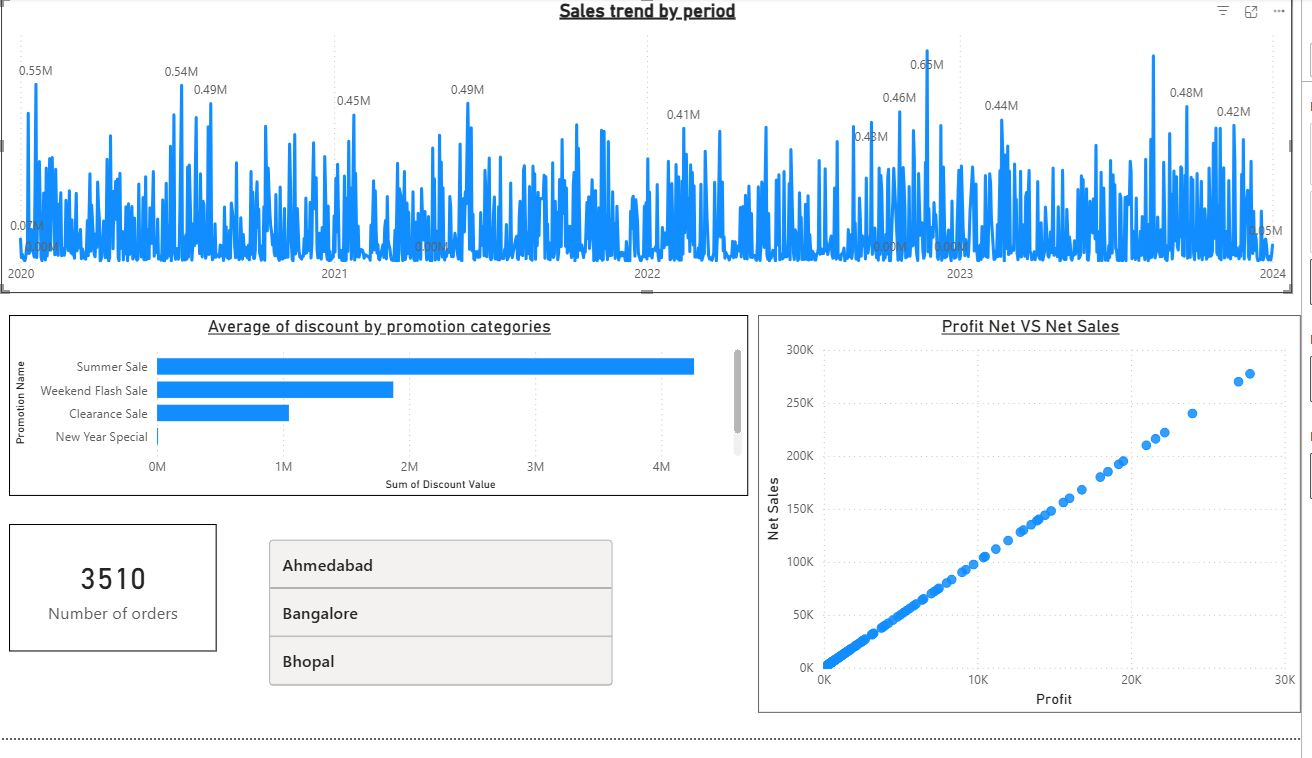

Layout of this report page (visuals, bound fields, positions):
{"tool":"powerbi","page":{"name":"Overview ","canvas":[1280,720],"ordinal":1},"visuals":[{"type":"lineChart","title":"Sales trend by period","fields":{"Y":["Sum(Fact Table.Net Sales  )"],"Category":["Fact Table.Date (dd/mm/yyyy).Variation.Date Hierarchy.Year"]},"box":[15.6,0,1255.7,286.9],"z":0},{"type":"scatterChart","title":"Profit Net  VS Net Sales  ","fields":{"X":["Fact Table.Profit"],"Y":["Fact Table.Net Sales  "]},"box":[751.9,308.3,528.1,387.1],"z":1000},{"type":"barChart","title":"Average of discount by promotion categories ","fields":{"Y":["Sum(Fact Table.Discount Value)"],"Category":["Dim Promotion.Promotion Name"]},"box":[23.3,308.3,718.8,176],"z":2000},{"type":"cardVisual","fields":{"Rows":["Dim Customers.City"],"Data":["Sum(Fact Table.Net Sales  )"]},"box":[271.4,501.9,344.3,193.6],"z":3000},{"type":"card","fields":{"Values":["CountNonNull(Fact Table.count)"]},"box":[23.3,511.6,202.3,123.5],"z":4000}]}

Visuals, with their boxes in screenshot pixels (x1, y1, x2, y2), scaled from the page's 1280x720 canvas onto the 1312x758 screenshot:
"Sales trend by period" lineChart: 16,0,1303,302
"Profit Net  VS Net Sales  " scatterChart: 771,325,1311,732
"Average of discount by promotion categories " barChart: 24,325,761,510
cardVisual - Dim Customers.City x Sum(Fact Table.Net Sales  ): 278,528,631,732
card - CountNonNull(Fact Table.count): 24,539,231,669
